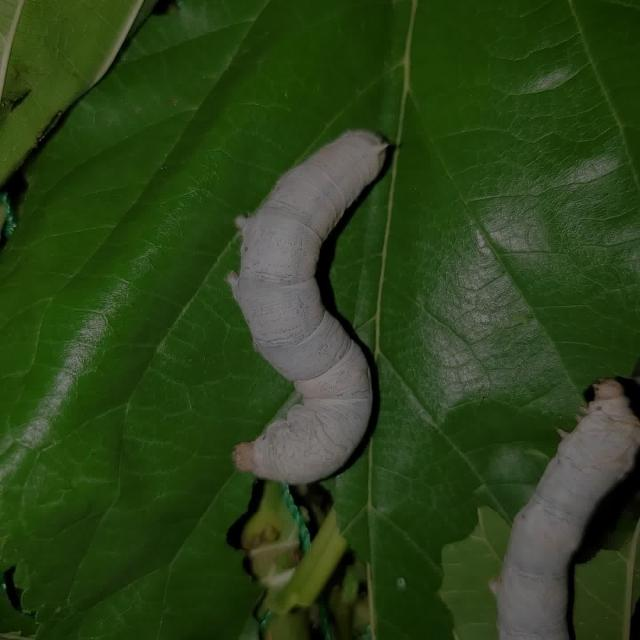Healthy: (216, 119, 408, 499)
